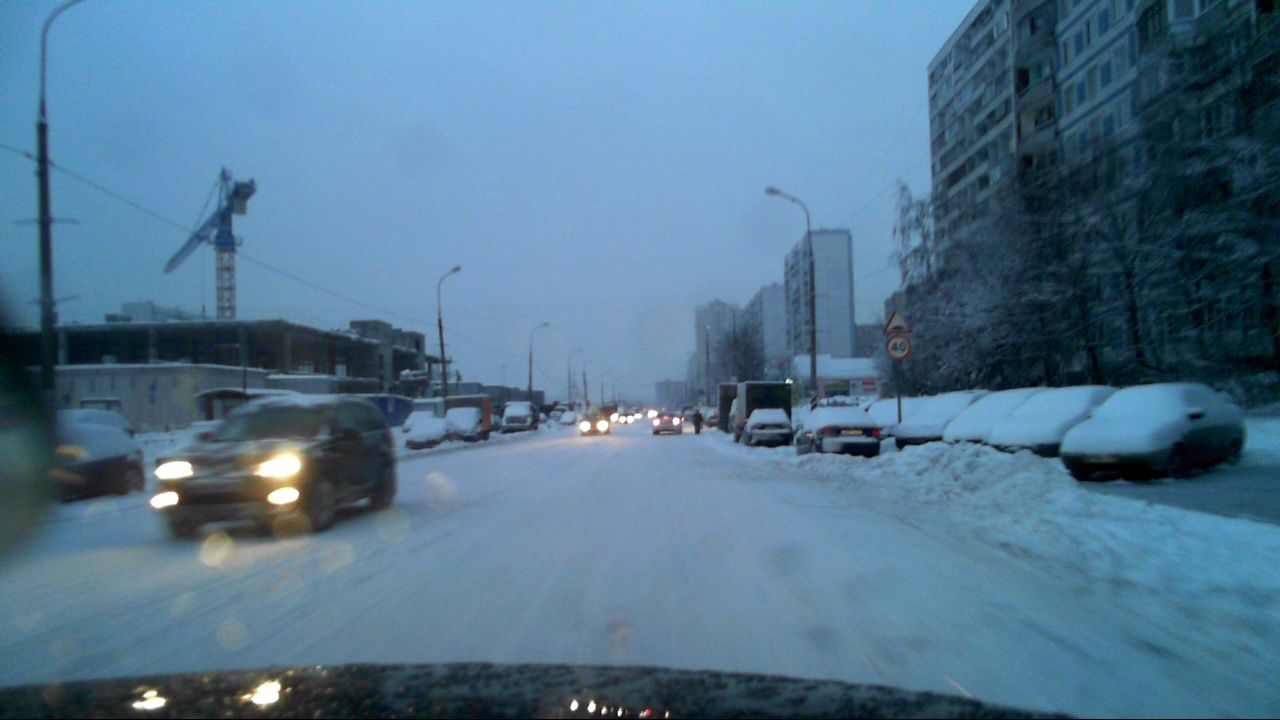speed_warning_40: (886, 334, 914, 358)
